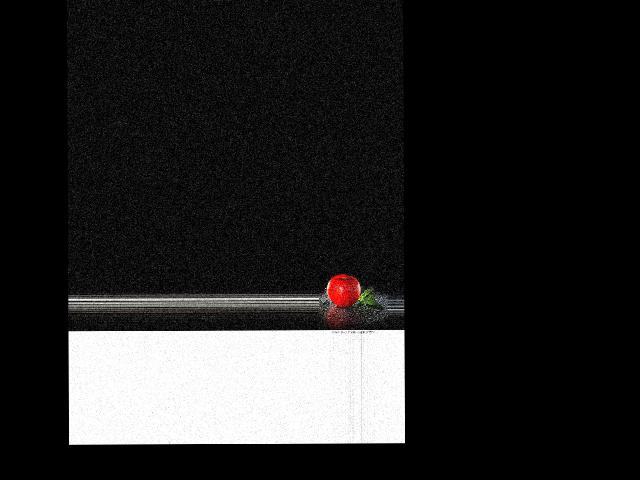tomato: (327, 274, 361, 306)
